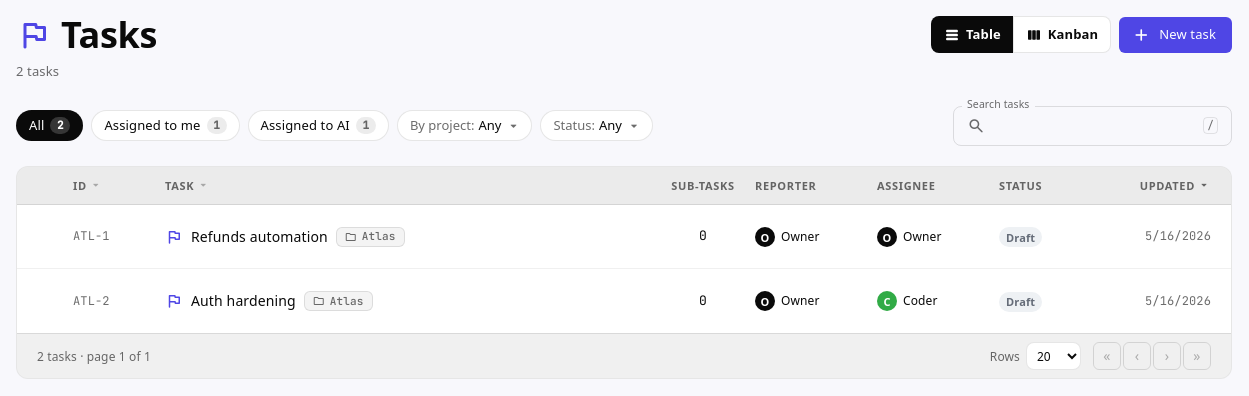
Scenario: Tasks page › exercises filtered useMemo mine branch — filterKey="mine" removes AI-assigned tasks
This screenshot has width=1249, height=396.
Expected: the text "Refunds automation" is shown, x1=191 y1=226 x2=328 y2=248
Step 1. Click the text "Assigned to me" → (152,126), box x1=104 y1=115 x2=200 y2=136
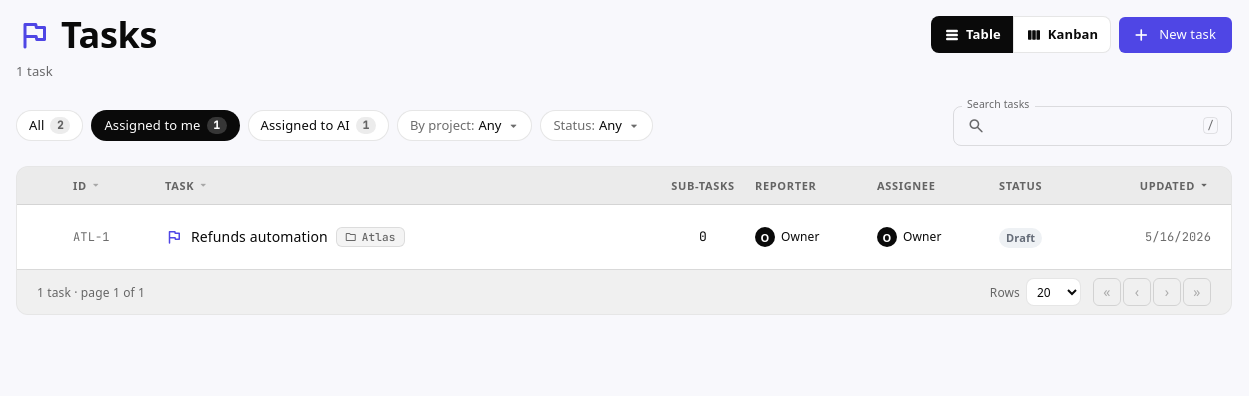
Expected: the text "Refunds automation" is shown, x1=191 y1=226 x2=328 y2=248
Expected: the button "Auth hardening" is gone
